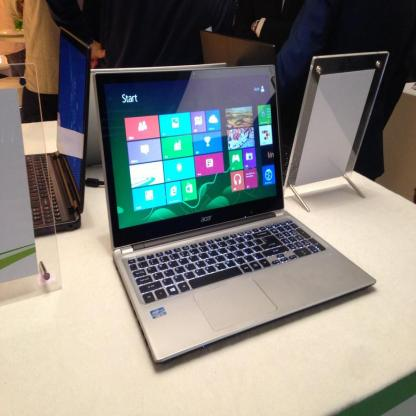board: (94, 64, 380, 373), (23, 26, 92, 236)
